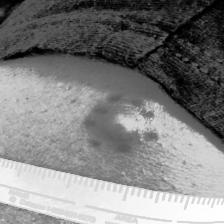Benign Marking or Mole: (101, 108, 142, 142)
